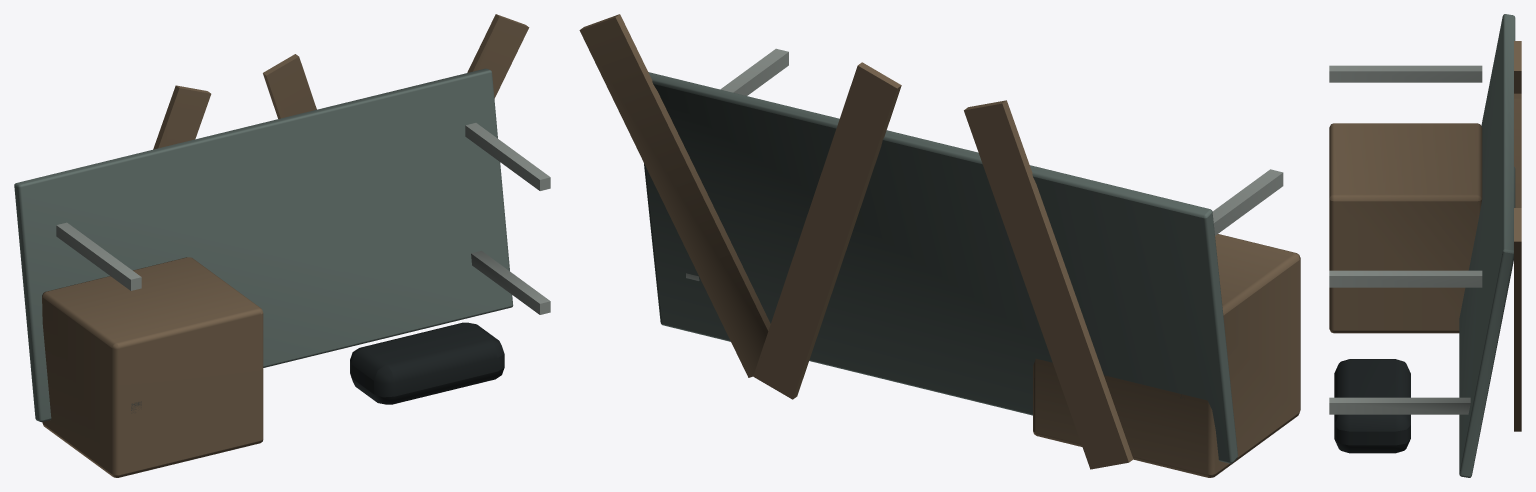
The model's file is barricade.glb.
3 views of the same model, side by side, from view 1: azimuth 30°, elevation 25°; view 2: azimuth 150°, elevation 25°; view 3: azimuth 270°, elevation 25° (orthographic). The views are drawn at different scales.
Visible parts, largest first — view 1: Barricade; view 2: Barricade; view 3: Barricade.
Part boxes in pixels (box(x1,y1,x2,y2)): Barricade: box(14, 14, 550, 477); Barricade: box(579, 14, 1300, 477); Barricade: box(1329, 14, 1521, 477).
Size of the model in its own units: 2.39 by 1.29 by 0.755.
